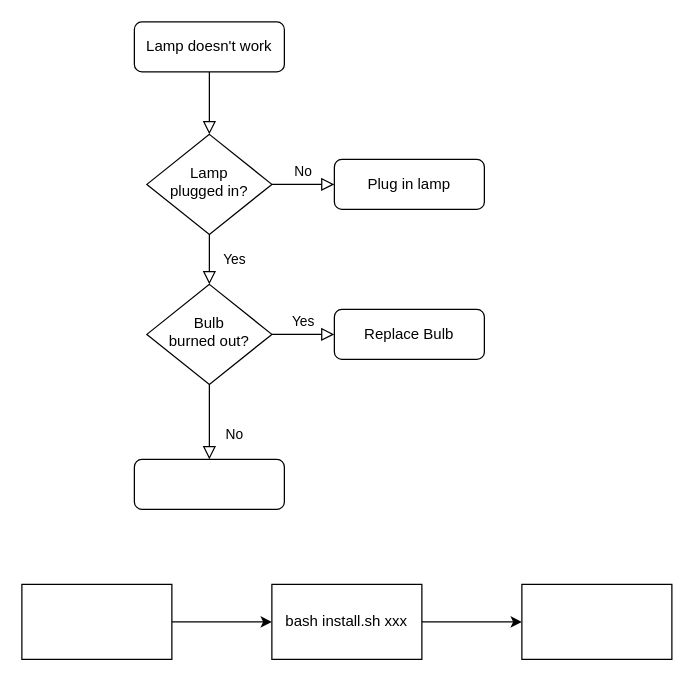
Image size: 694x681. Some labels were removed from this diagram. Here are the shapes that lost their labels. From the top down, the centre of each, then its label:
At pixel 208 483: "Repair Lamp".
At pixel 96 621: "install.zip".
At pixel 596 621: "xxx.sh".
